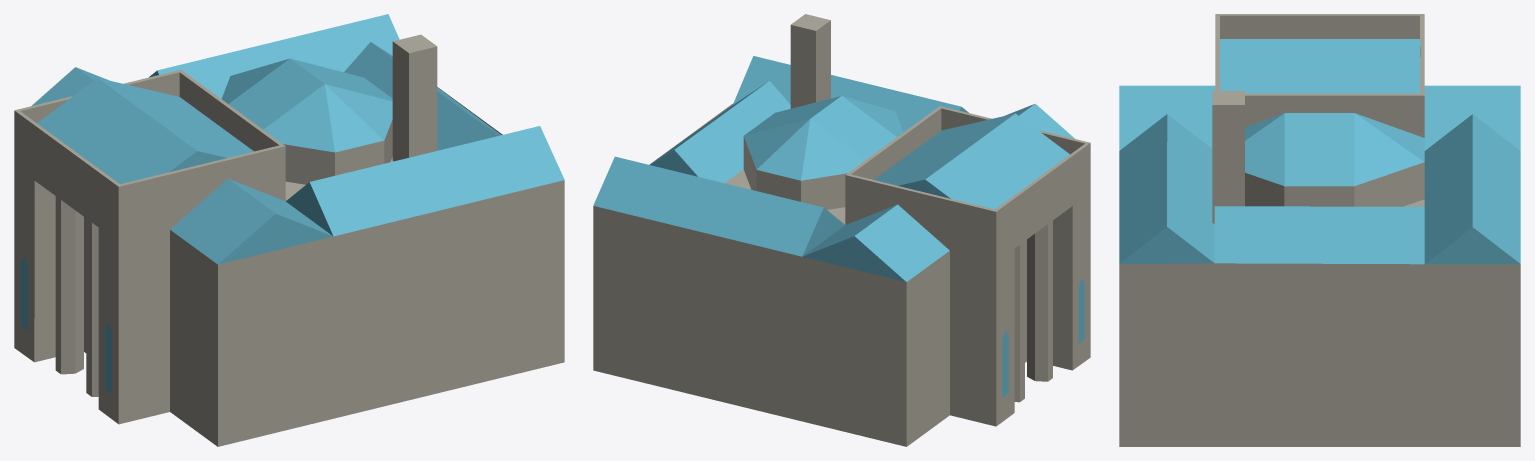
File: Ferens.fbx
3 renders of one model, left to right at view 1: azimuth 30°, elevation 25°; view 2: azimuth 150°, elevation 25°; view 3: azimuth 270°, elevation 25°, orthographic. The views are drawn at different scales.
Visible parts, largest first — view 1: Cube; view 2: Cube; view 3: Cube.
Boxes of the visible parts, x1=… form: Cube: x1=14, y1=14, x2=564, y2=446; Cube: x1=593, y1=14, x2=1090, y2=446; Cube: x1=1119, y1=14, x2=1520, y2=446.
Size of the model in its own units: 1126 by 816 by 981.
